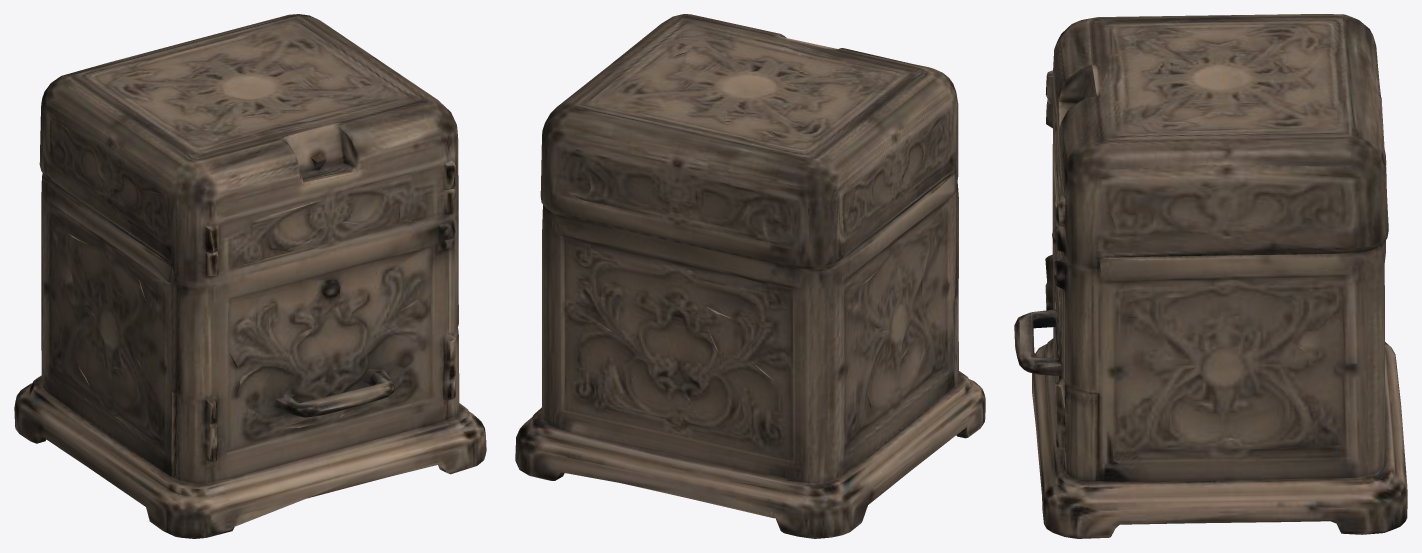
The model's file is register.glb.
3 views of the same model, side by side, from view 1: azimuth 30°, elevation 25°; view 2: azimuth 150°, elevation 25°; view 3: azimuth 270°, elevation 25° (orthographic). The views are drawn at different scales.
Parts seen in each view (by area): view 1: register; view 2: register; view 3: register.
Boxes of the visible parts, left/top/right/bottom form: register: left=14, top=14, right=486, bottom=538; register: left=515, top=14, right=985, bottom=538; register: left=1014, top=14, right=1407, bottom=538.
Bounding box in the file's own units: 0.4886 × 0.5 × 0.4727.
Materials: 1 (1 with a texture image).
